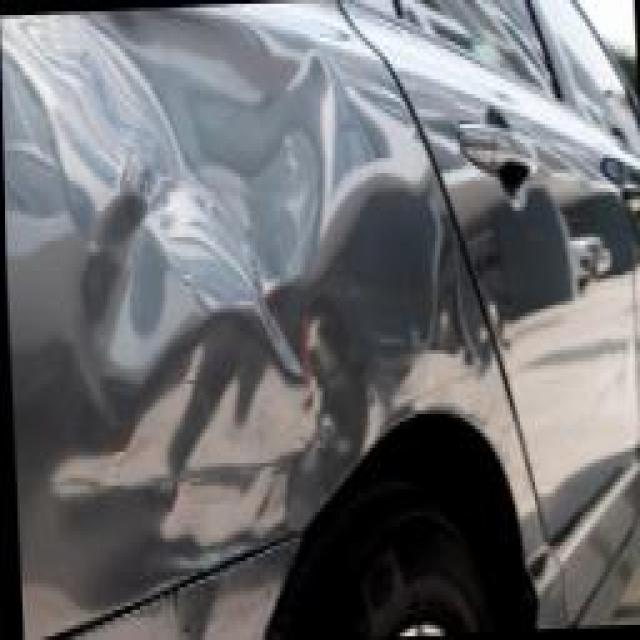Fender: (23, 60, 465, 633)
